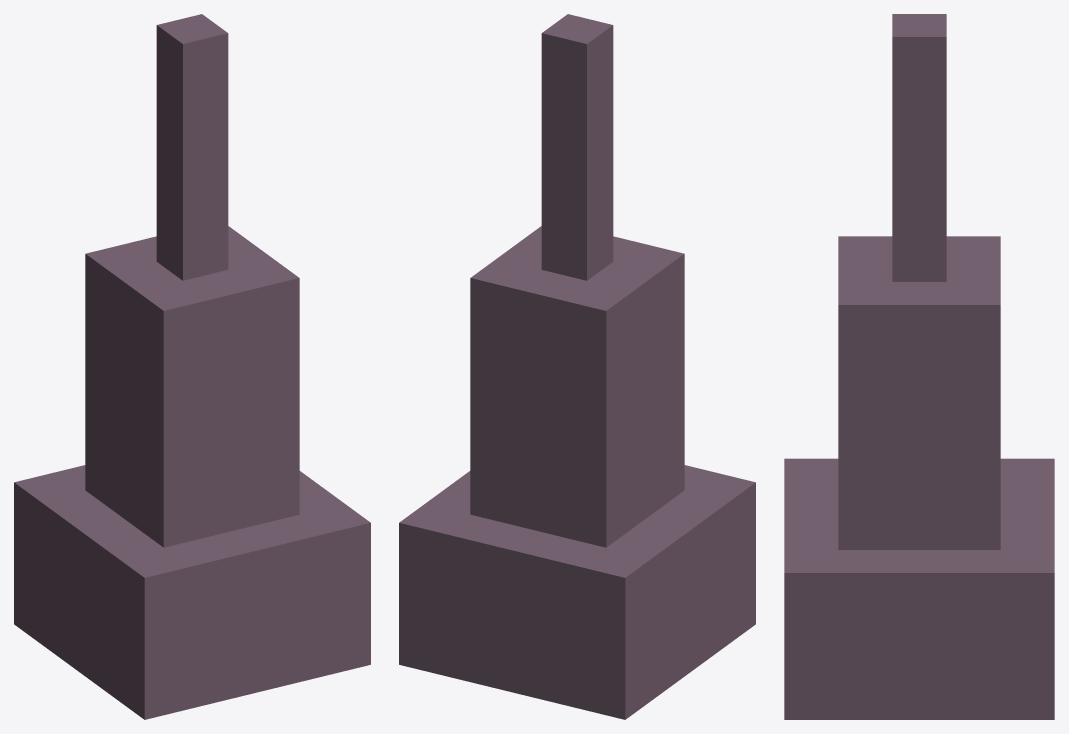
The model's file is spike 1.obj.
The picture shows the model from 3 angles, left to right: view 1: azimuth 30°, elevation 25°; view 2: azimuth 150°, elevation 25°; view 3: azimuth 270°, elevation 25°; orthographic projection. The views are drawn at different scales.
Size of the model in its own units: 0.5 by 1.3 by 0.5.
Materials: 1 (1 with a texture image).
